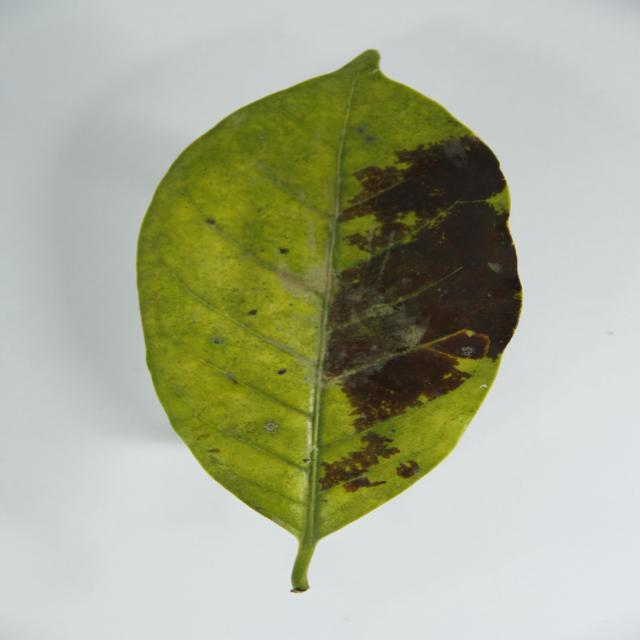DeficienciaNutricional-Potasio: (139, 50, 521, 591)
